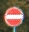No entry: (5, 6, 24, 27)
